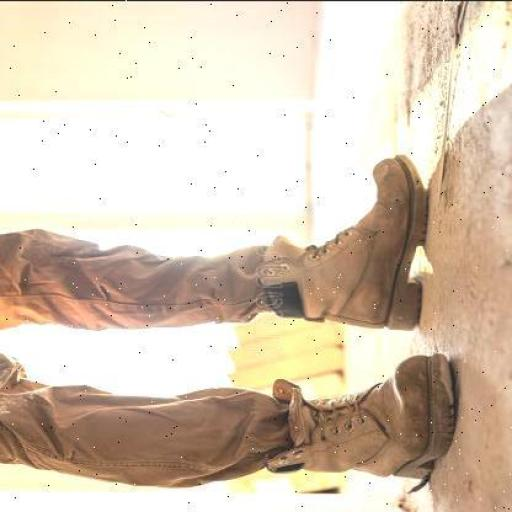safety_shoe: (272, 151, 422, 333), (281, 348, 461, 485)
